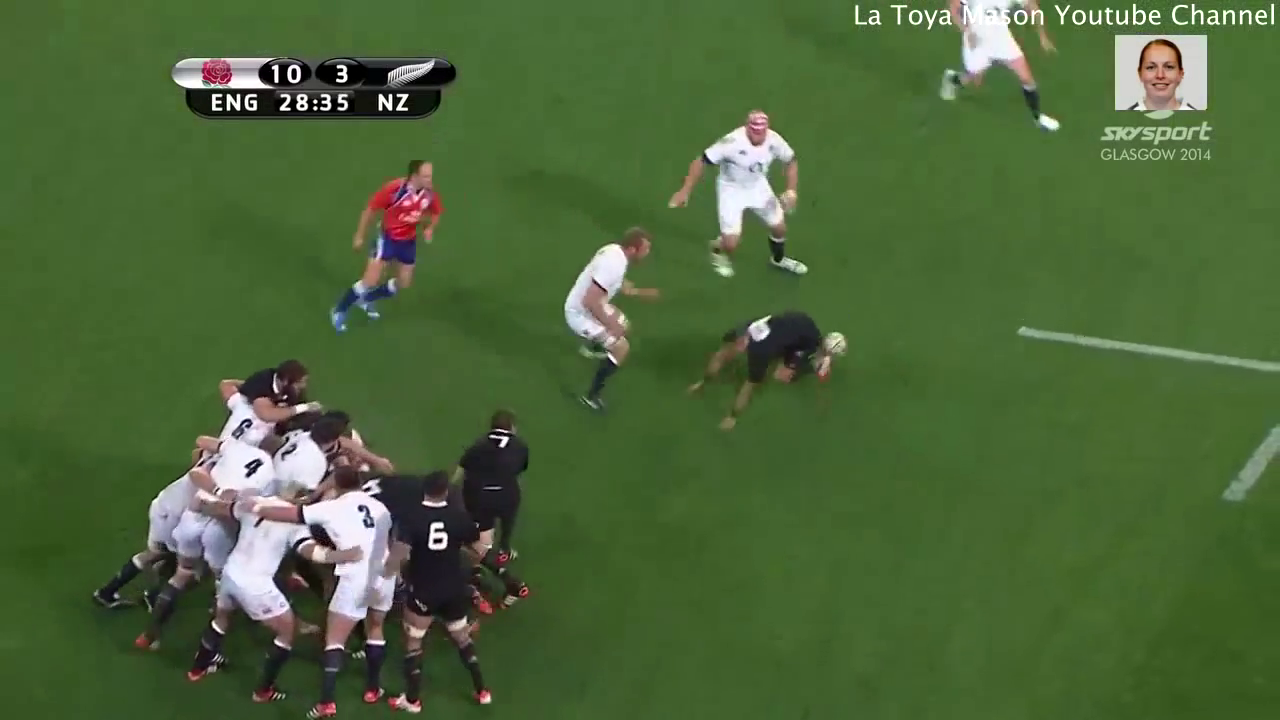ball: (817, 319, 861, 360)
maul: (95, 348, 536, 720)
player: (238, 460, 412, 720), (116, 440, 281, 664), (376, 464, 503, 720), (189, 468, 325, 704), (664, 106, 833, 295), (317, 148, 454, 345), (679, 304, 855, 441), (557, 221, 673, 420), (932, 1, 1062, 144), (84, 461, 193, 622), (453, 398, 539, 563), (203, 353, 318, 424)
